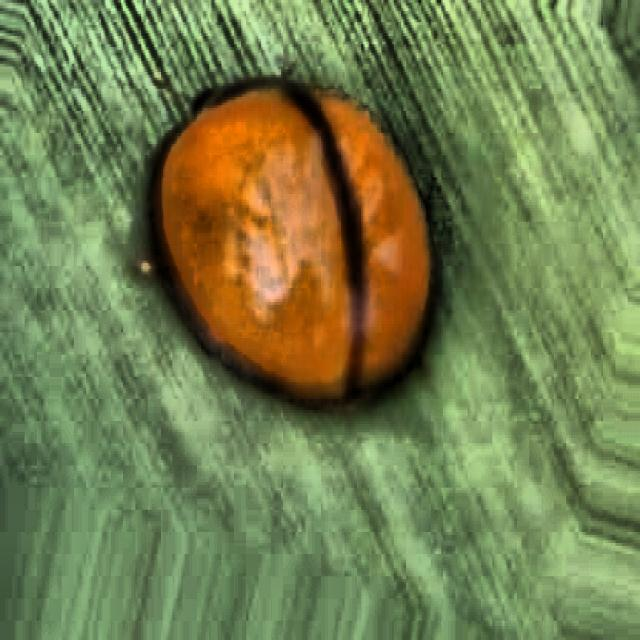Ladybug: (72, 16, 488, 465)
